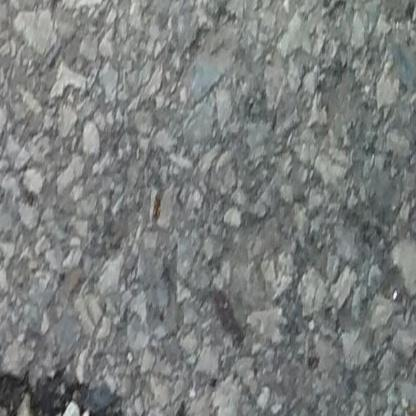Cracks: (0, 365, 131, 416)
